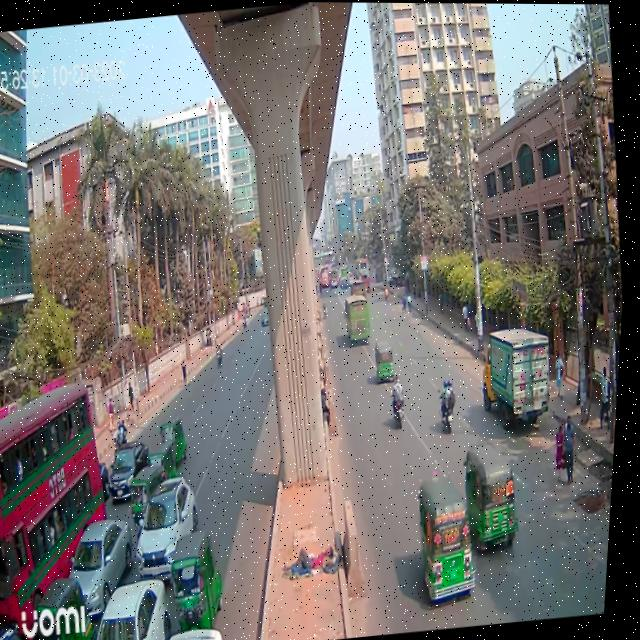cng: (413, 465, 486, 602), (464, 438, 529, 561), (171, 526, 240, 640), (132, 456, 179, 535), (374, 333, 401, 386)
